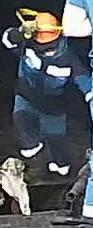helmet: (31, 7, 62, 45)
vest: (9, 35, 79, 120)
